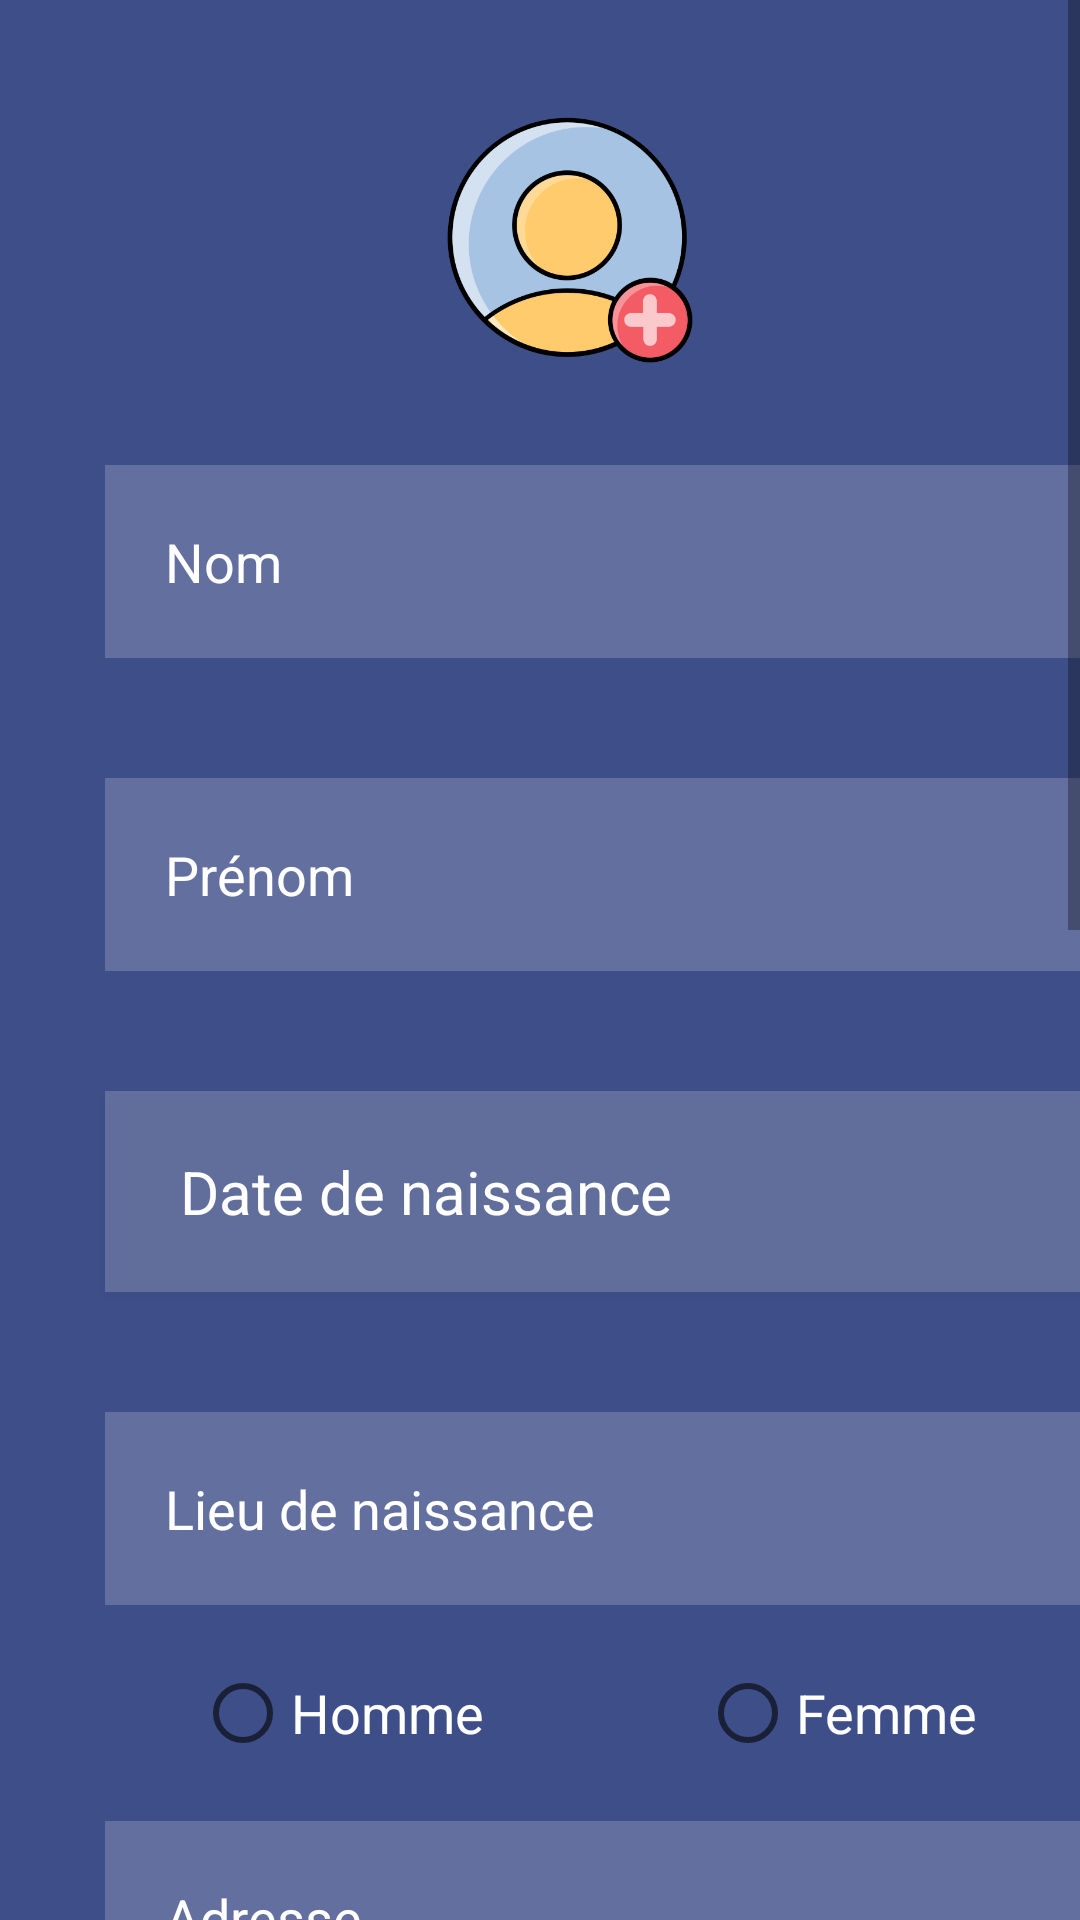

Locate icon controls on the screen. Image size 1080px×1920px, boxes as {"left": x1, "top": y1, "right": x2, "bottom": y2}.
ajouter: {"left": 447, "top": 118, "right": 693, "bottom": 363}
